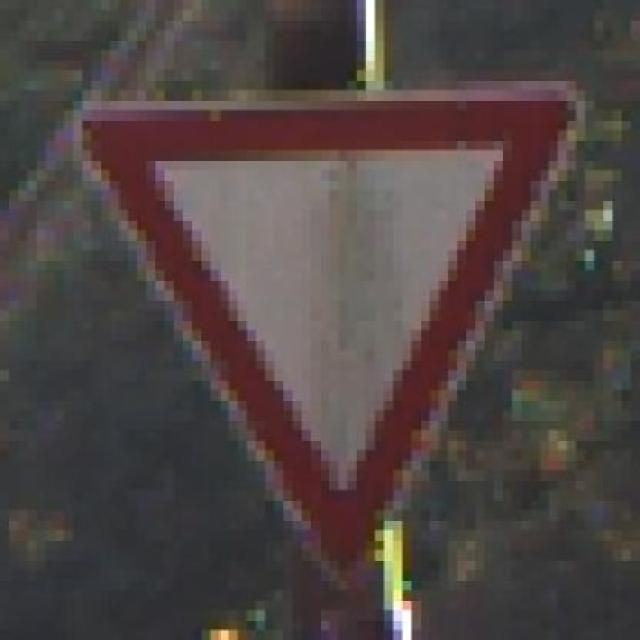Give Way: (53, 71, 602, 591)
